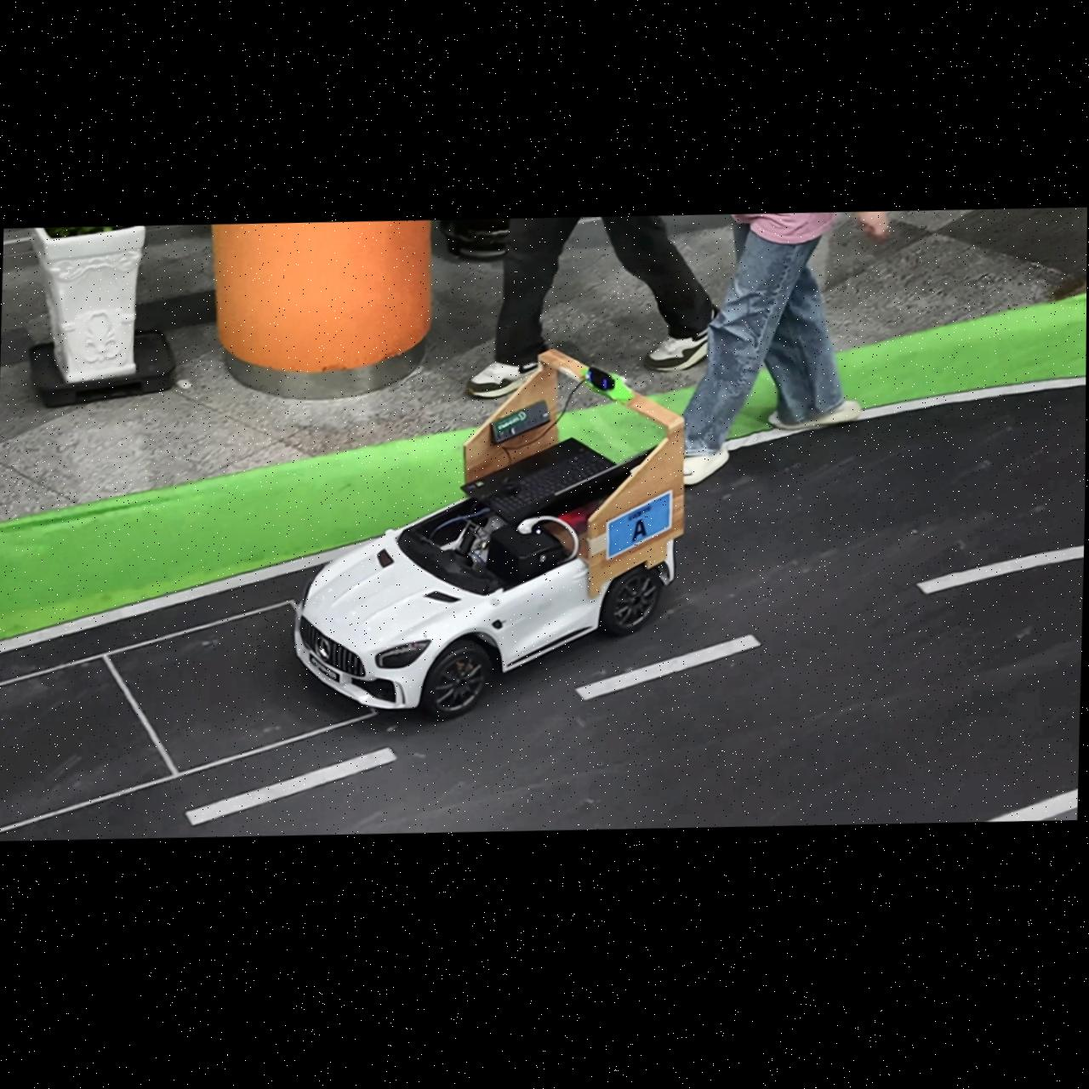broken_line: (185, 748, 398, 825), (575, 635, 762, 700), (918, 545, 1083, 594)
